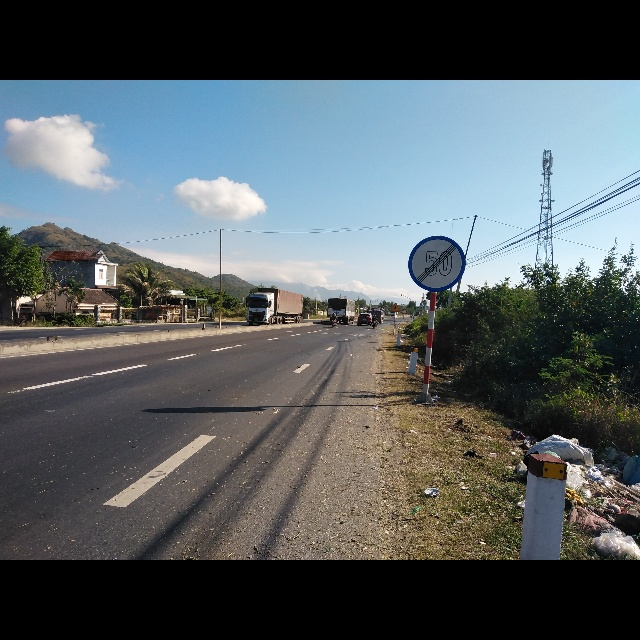Hết hạn chế tốc độ tối đa 50km/h: (409, 232, 467, 293)
